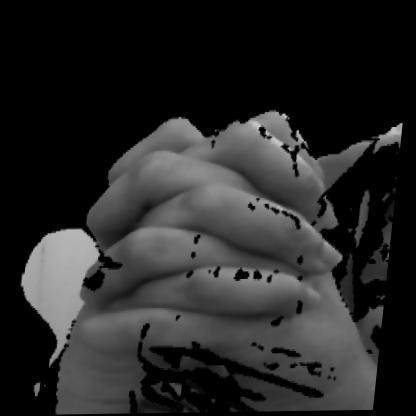prayer: (62, 108, 376, 413)
